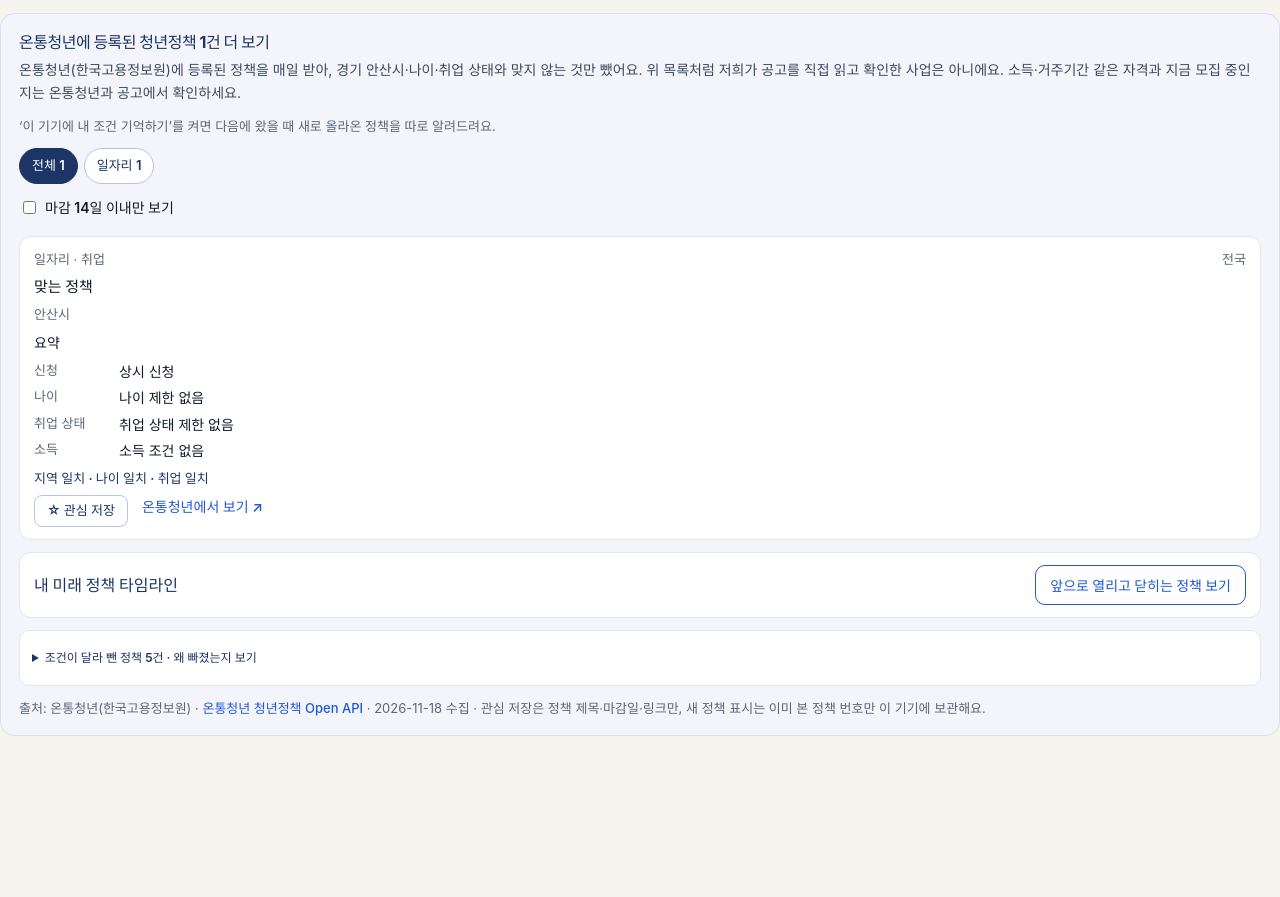
policies left out by conditions › shows a closed summary that opens to the reasons
Click the heading "조건이 달라 뺀 정책 5건 · 왜 빠졌는지 보기". click: x=151, y=658
box: [45,650,257,665]
(page scrolled)
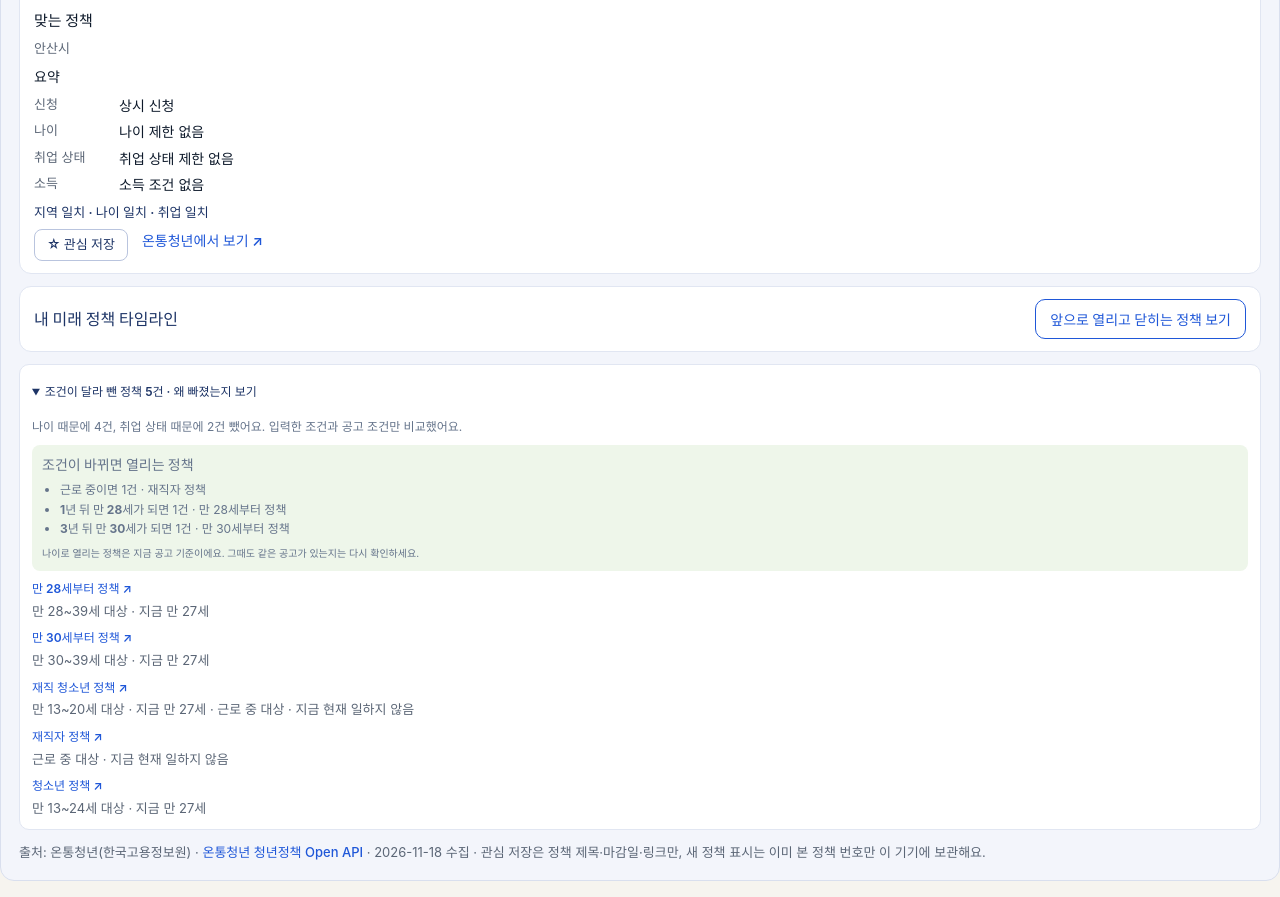
Now the text "나이 때문에 4건, 취업 상태 때문에 2건 뺐어요. 입력한 조건과 공고 조건만 비교했어요." is shown, box [32,419,462,434]
Now the heading "조건이 바뀌면 열리는 정책" is shown, box [42,456,194,473]
Now the text "근로 중이면" is shown, box [60,482,118,497]
